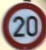20 km speed: (1, 1, 46, 49)
